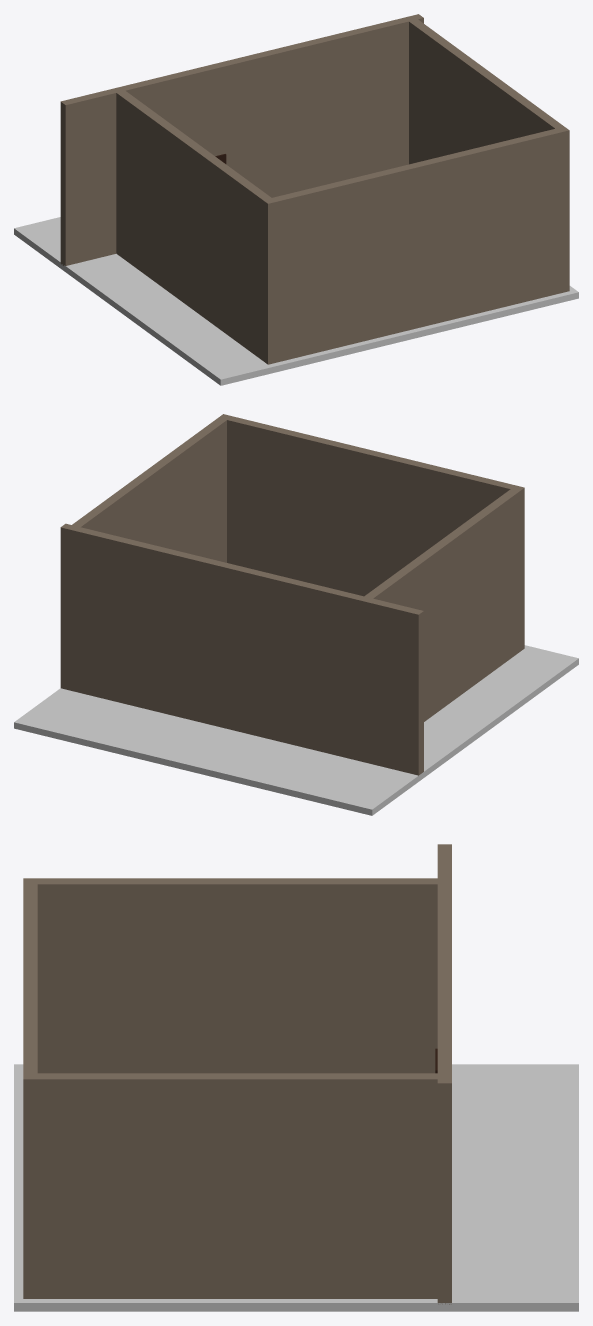
Rendered from corner.obj.
3 renders of one model, top to bottom at view 1: azimuth 30°, elevation 25°; view 2: azimuth 150°, elevation 25°; view 3: azimuth 270°, elevation 25°, orthographic. The views are drawn at different scales.
Bounding box in the file's own units: 12 × 5.35 × 12.
